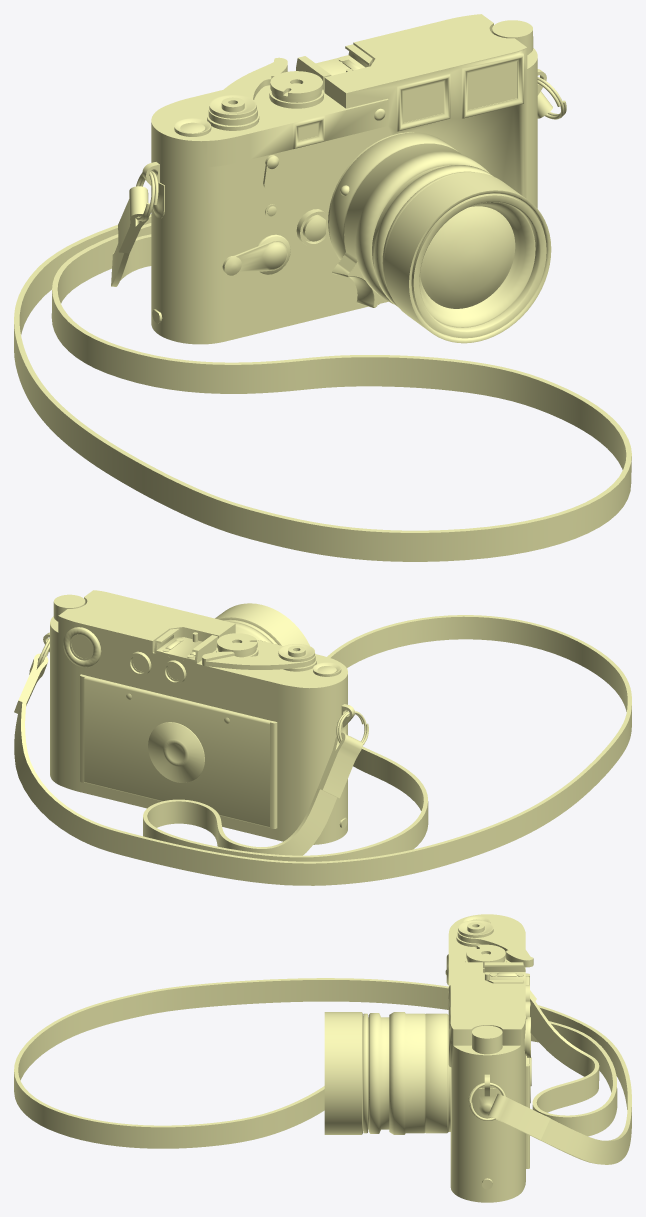
Rendered from MangaKa Props - M_R_ED_Camera_02.glb.
The picture shows the model from 3 angles, top to bottom: view 1: azimuth 30°, elevation 25°; view 2: azimuth 150°, elevation 25°; view 3: azimuth 270°, elevation 25°; orthographic projection. The views are drawn at different scales.
Parts seen in each view (by area): view 1: M_R_ED_Camera_02_blueScreen, M_R_ED_Camera_02_Strap_blueScreen, M_R_ED_Camera_02_Lense_blueScreen, M_R_ED_Camera_02_Metals_blueScreen, M_R_ED_Camera_02_Glass_blueScreen; view 2: M_R_ED_Camera_02_Strap_blueScreen, M_R_ED_Camera_02_blueScreen, M_R_ED_Camera_02_BackCover_blueScreen, M_R_ED_Camera_02_Metals_blueScreen, M_R_ED_Camera_02_Lense_blueScreen, M_R_ED_Camera_02_Glass_blueScreen; view 3: M_R_ED_Camera_02_Strap_blueScreen, M_R_ED_Camera_02_blueScreen, M_R_ED_Camera_02_Lense_blueScreen, M_R_ED_Camera_02_Metals_blueScreen.
Boxes of the visible parts, box(x1,y1,x2,y2) form: M_R_ED_Camera_02_blueScreen: box(151, 14, 537, 344); M_R_ED_Camera_02_Strap_blueScreen: box(14, 77, 631, 561); M_R_ED_Camera_02_Lense_blueScreen: box(329, 132, 551, 343); M_R_ED_Camera_02_Metals_blueScreen: box(142, 20, 546, 275); M_R_ED_Camera_02_Glass_blueScreen: box(299, 61, 516, 308); M_R_ED_Camera_02_Strap_blueScreen: box(14, 615, 631, 885); M_R_ED_Camera_02_blueScreen: box(50, 590, 347, 844); M_R_ED_Camera_02_BackCover_blueScreen: box(84, 676, 271, 827); M_R_ED_Camera_02_Metals_blueScreen: box(43, 594, 354, 734); M_R_ED_Camera_02_Lense_blueScreen: box(215, 603, 309, 645); M_R_ED_Camera_02_Glass_blueScreen: box(72, 636, 180, 679); M_R_ED_Camera_02_Strap_blueScreen: box(14, 978, 631, 1164); M_R_ED_Camera_02_blueScreen: box(446, 914, 529, 1202); M_R_ED_Camera_02_Lense_blueScreen: box(324, 1012, 447, 1134); M_R_ED_Camera_02_Metals_blueScreen: box(445, 916, 533, 1189).
Bounding box in the file's own units: 0.3296 × 0.12 × 0.405.
